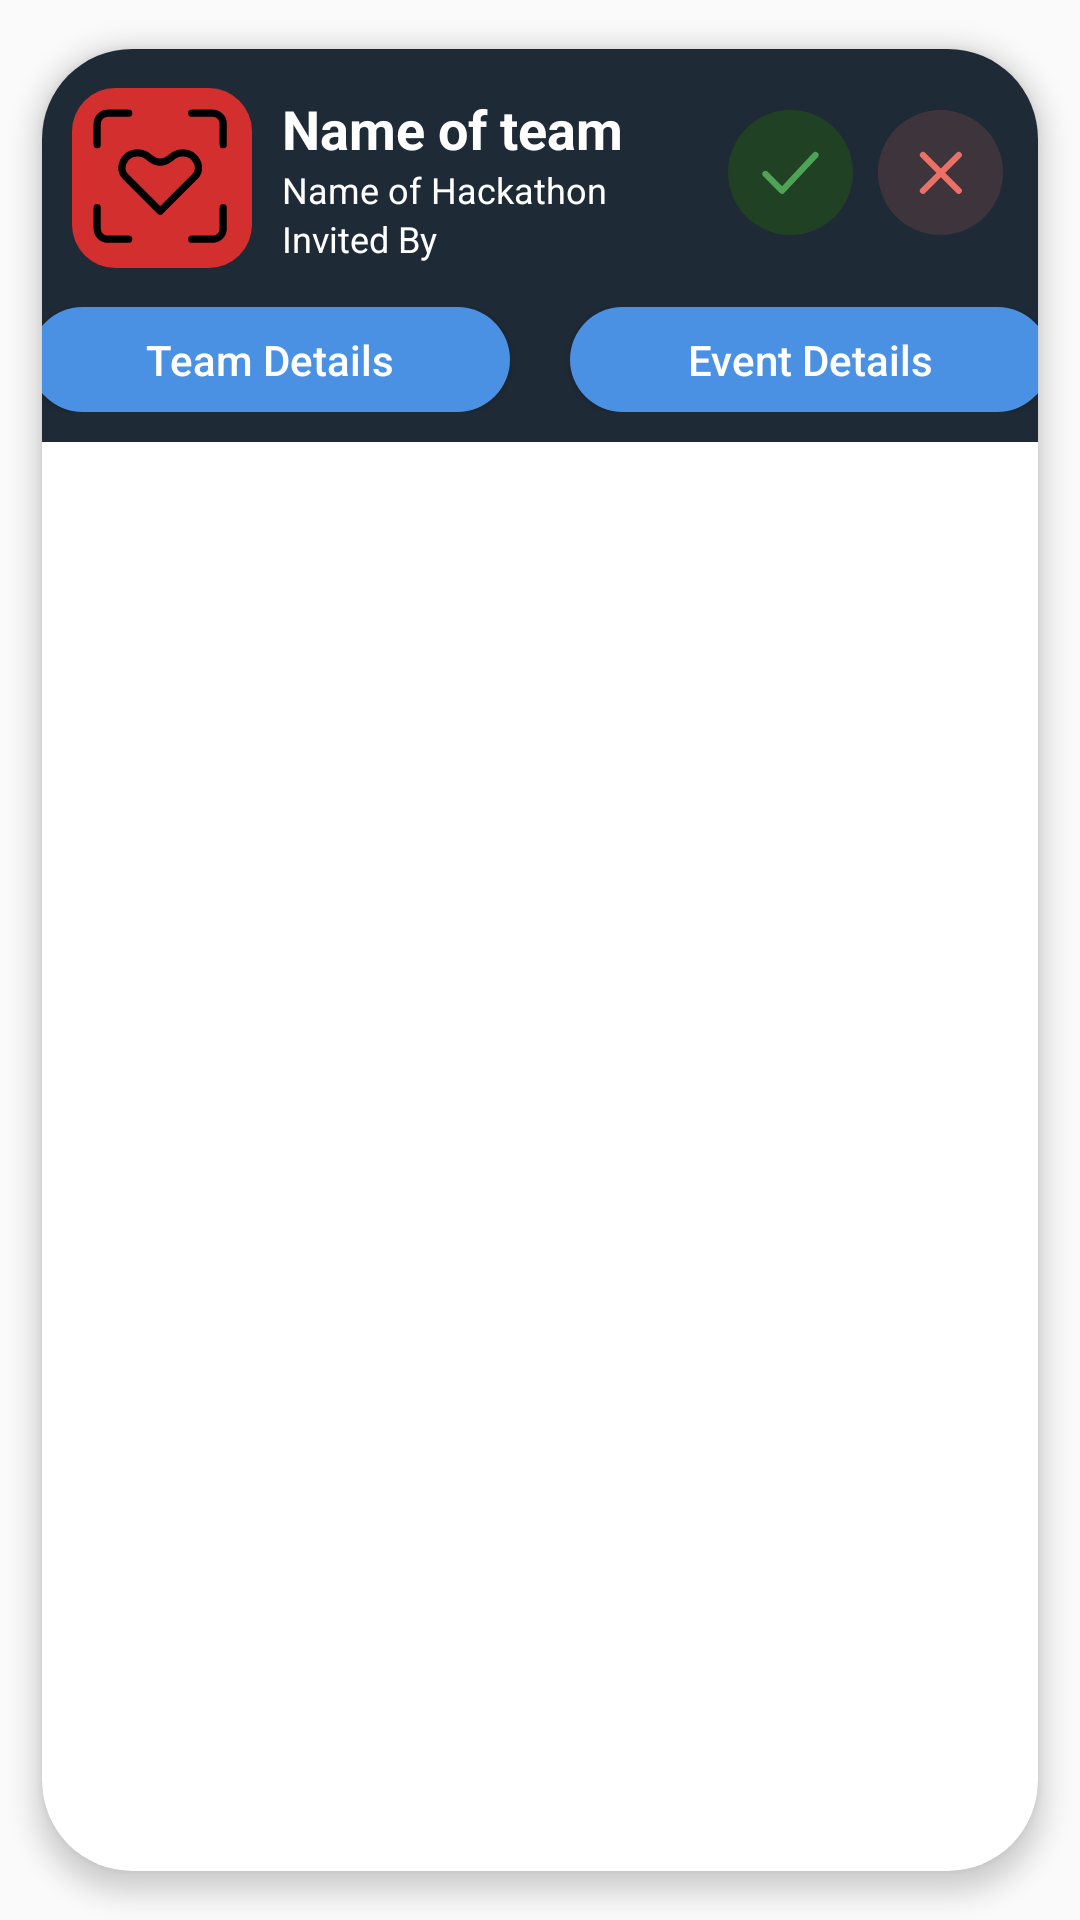

Where to tap for icons on this 1080px x 1920px app screen, as point (x, y):
acceptrequest: point (790, 172)
healthtech: point (162, 178)
rejectrequest: point (940, 172)
